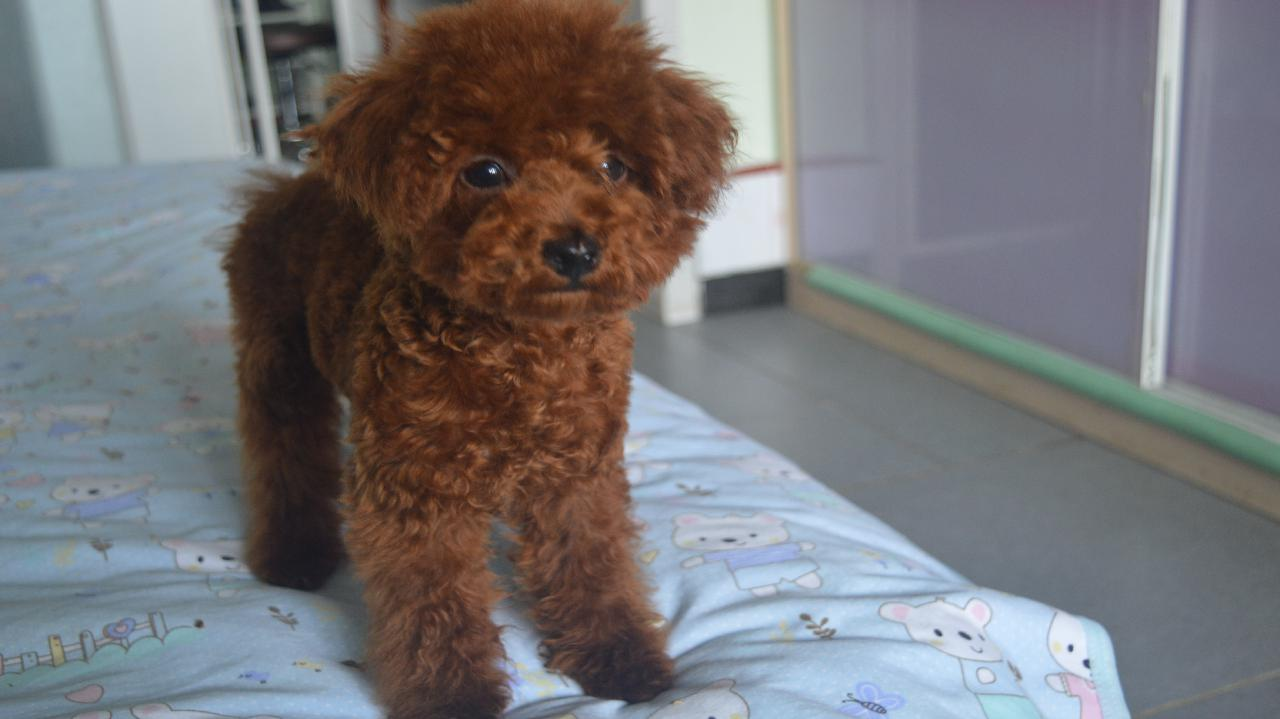coin: (215, 3, 736, 719)
